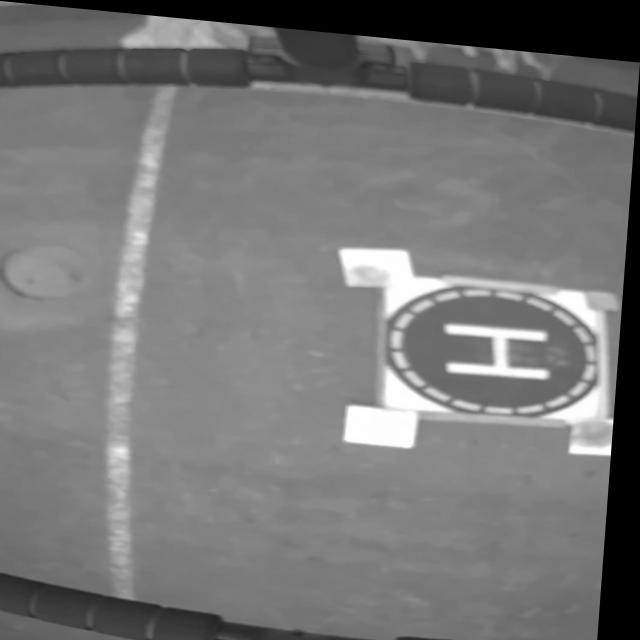Helipad: (446, 312, 556, 368)
